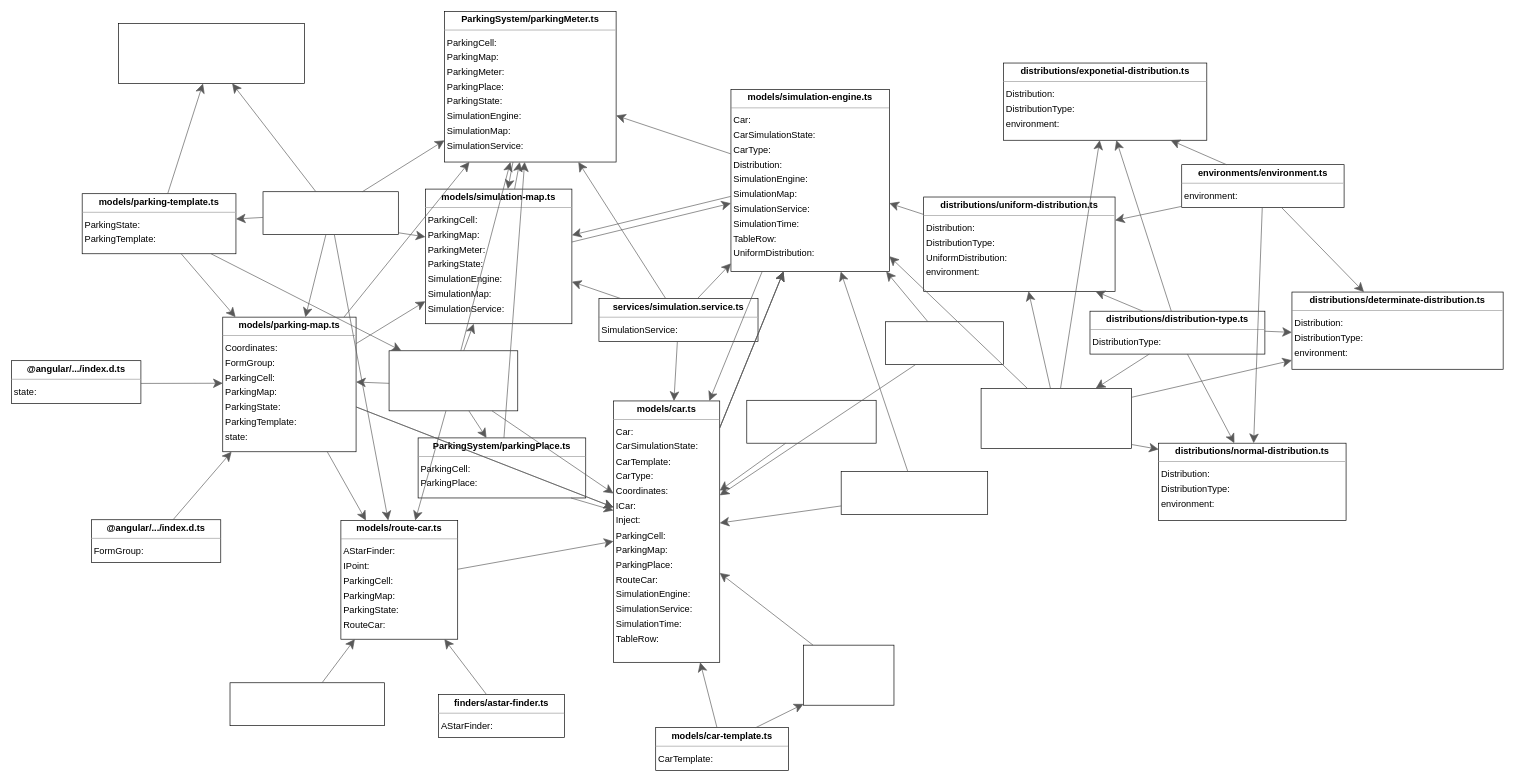
The diagram is 1515 pixels wide and 782 high, and some of its shapes have lost their labels. Each missing label, with the centre of its shape:
"@angular/.../index.d.ts Inject:" goes at pixel 811 421.
"distributions/distribution.ts Distribution: DistributionType:" goes at pixel 1056 418.
"interfaces/astar.interfaces.ts IPoint:" goes at pixel 306 704.
"models/icar.ts CarTemplate: ICar:" goes at pixel 848 674.
"models/parking-cell.ts ParkingCell: ParkingTemplate:" goes at pixel 453 380.
"models/parking-state.ts ParkingState:" goes at pixel 330 213.
"models/parking-template-group.ts ParkingState: ParkingTemplate:" goes at pixel 211 53.
"models/simulation-time.ts SimulationTime:" goes at pixel 914 492.
"models/table-row.ts TableRow:" goes at pixel 944 343.
